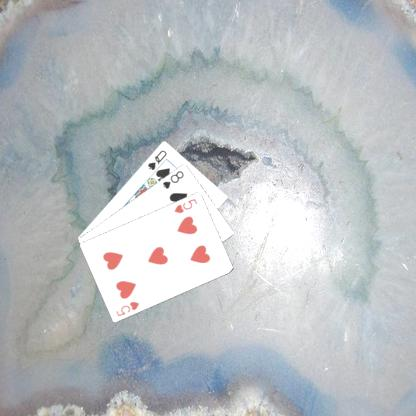5H: (113, 299, 141, 317), (172, 196, 198, 214)
8S: (160, 168, 185, 190)
QS: (145, 147, 168, 171)
